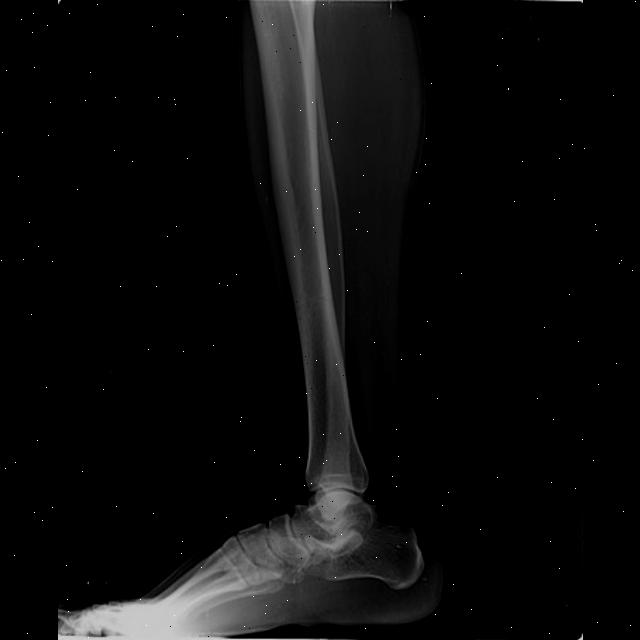Fracture: (290, 288, 335, 316)
